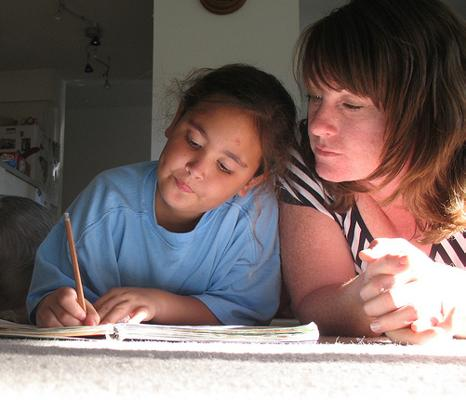person: (24, 65, 294, 325)
